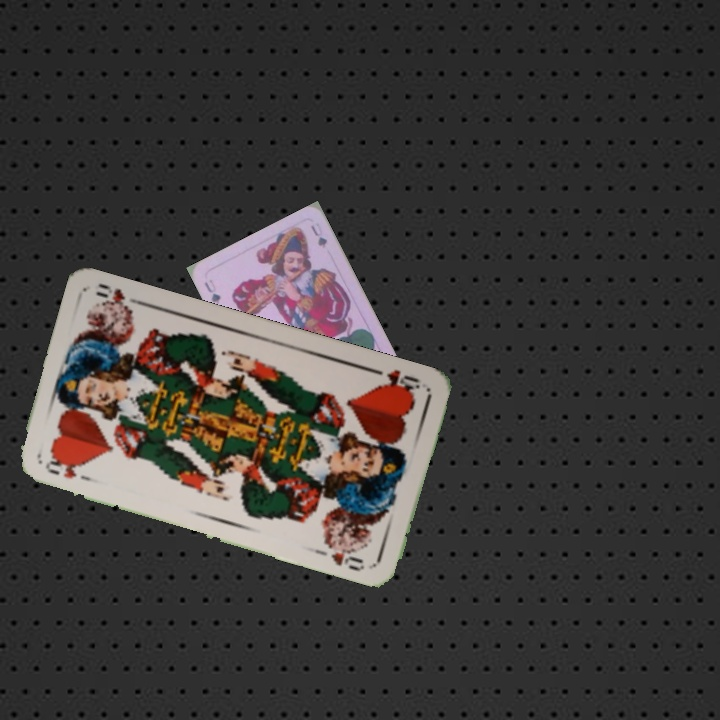GU: (200, 275, 223, 307)
HO: (368, 365, 423, 397), (41, 457, 97, 485)
